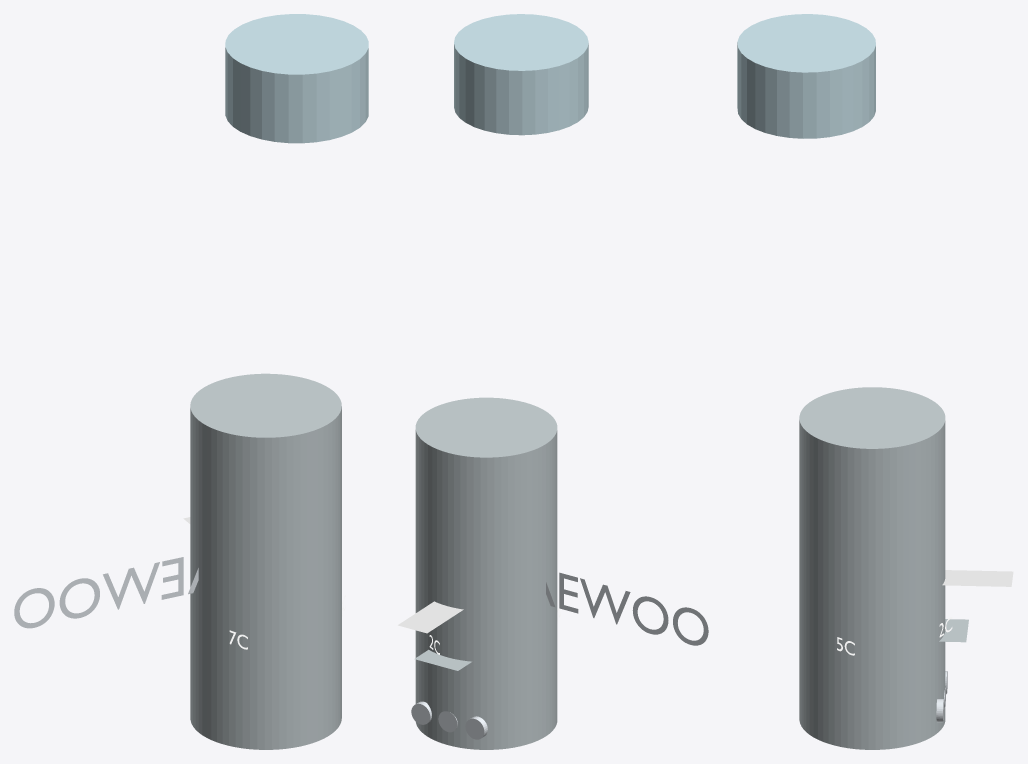
Rendered from Fares Test Chat.glb.
The picture shows the model from 3 angles, left to right: view 1: azimuth 30°, elevation 25°; view 2: azimuth 150°, elevation 25°; view 3: azimuth 270°, elevation 25°; orthographic projection. The views are drawn at different scales.
Visible parts, largest first — view 1: Body, Lid, Logo; view 2: Body, Lid, Logo, Window, LED_BG; view 3: Body, Lid, Window, LED_BG.
Part boxes in pixels (left/top/right/bottom): Body: left=190, top=373, right=341, bottom=749; Lid: left=225, top=14, right=368, bottom=143; Logo: left=14, top=557, right=198, bottom=628; Body: left=415, top=397, right=557, bottom=749; Lid: left=454, top=14, right=588, bottom=135; Logo: left=546, top=572, right=708, bottom=645; Window: left=398, top=601, right=463, bottom=633; LED_BG: left=414, top=649, right=471, bottom=670; Body: left=799, top=387, right=945, bottom=749; Lid: left=737, top=14, right=875, bottom=138; Window: left=942, top=570, right=1013, bottom=586; LED_BG: left=939, top=619, right=968, bottom=642.
Size of the model in its own units: 1.06 by 2.24 by 0.8312.
